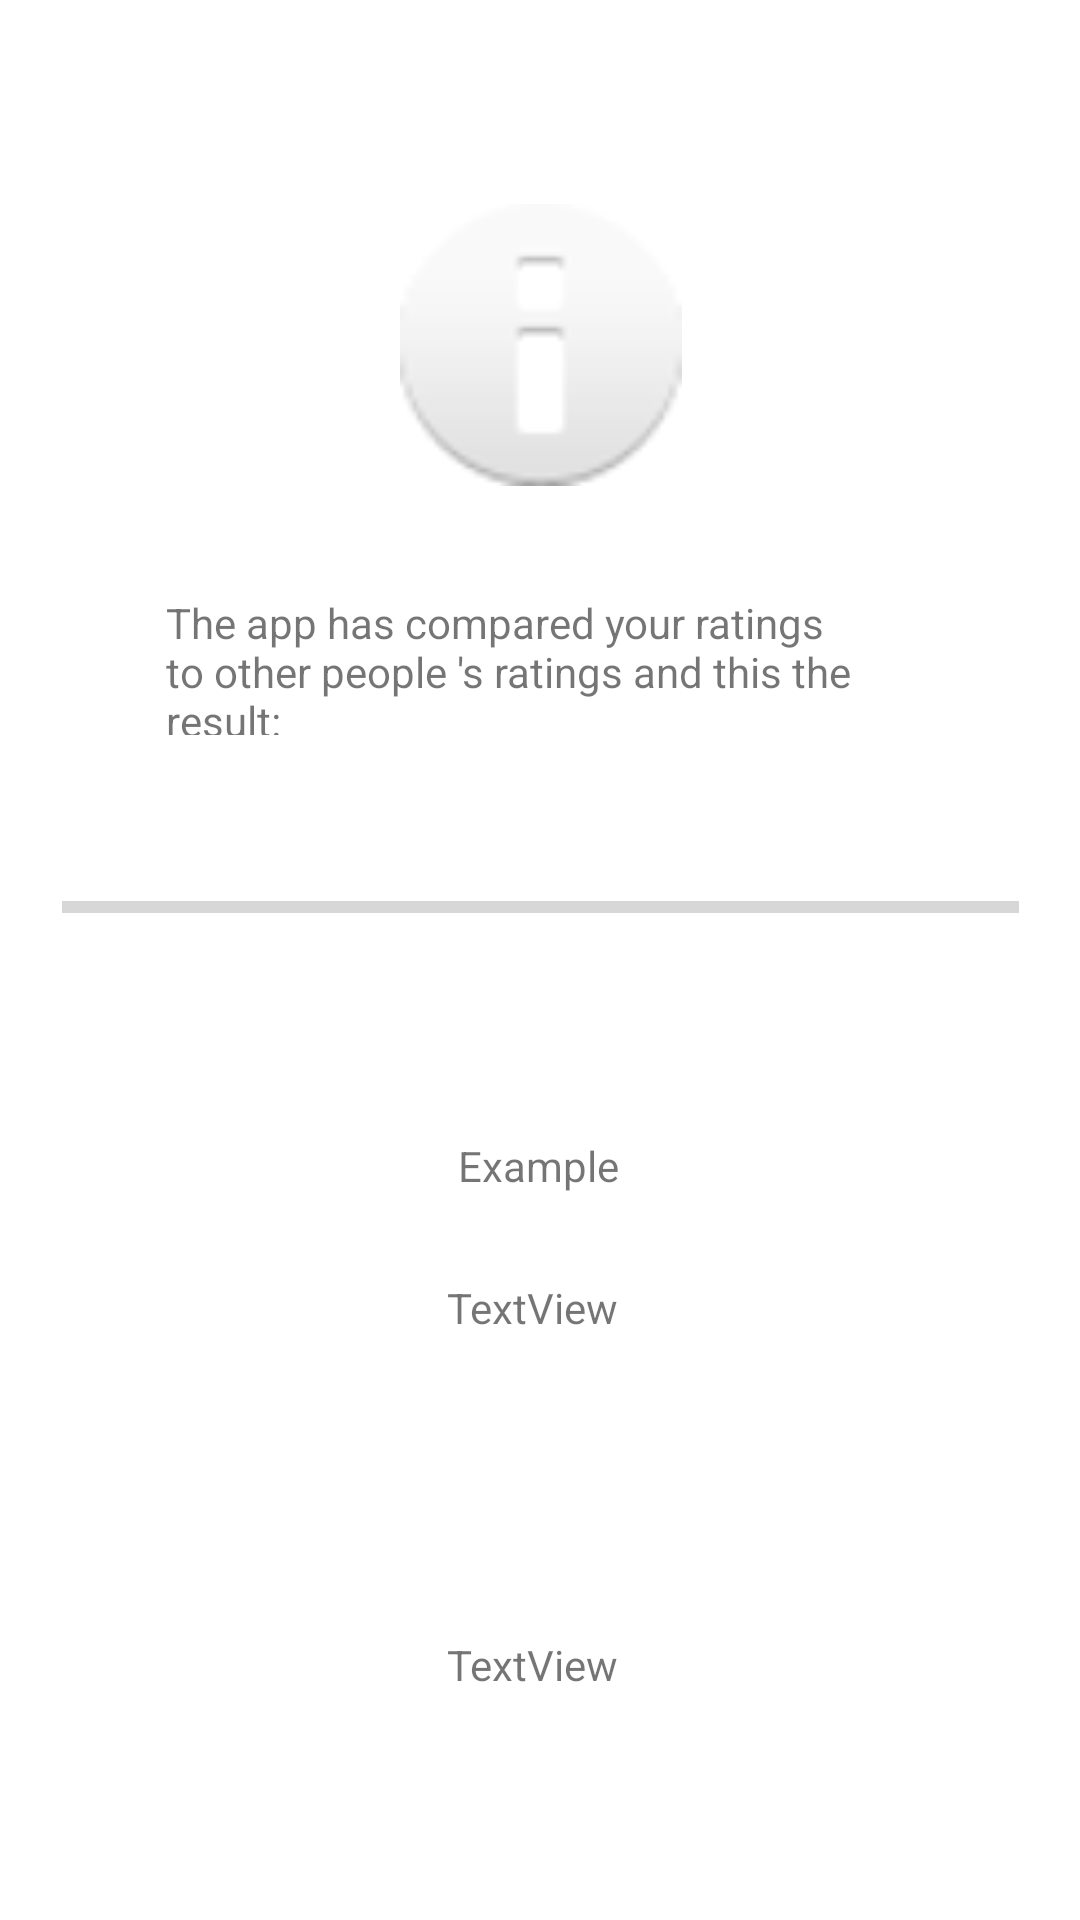

Screen size 1080 × 1920. Icon name, then its box in pixels as (x1, y1, x2, y2):
info: (400, 256, 682, 486)
